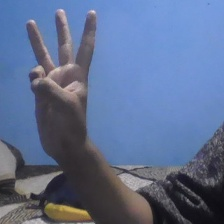W: (22, 6, 101, 159)
